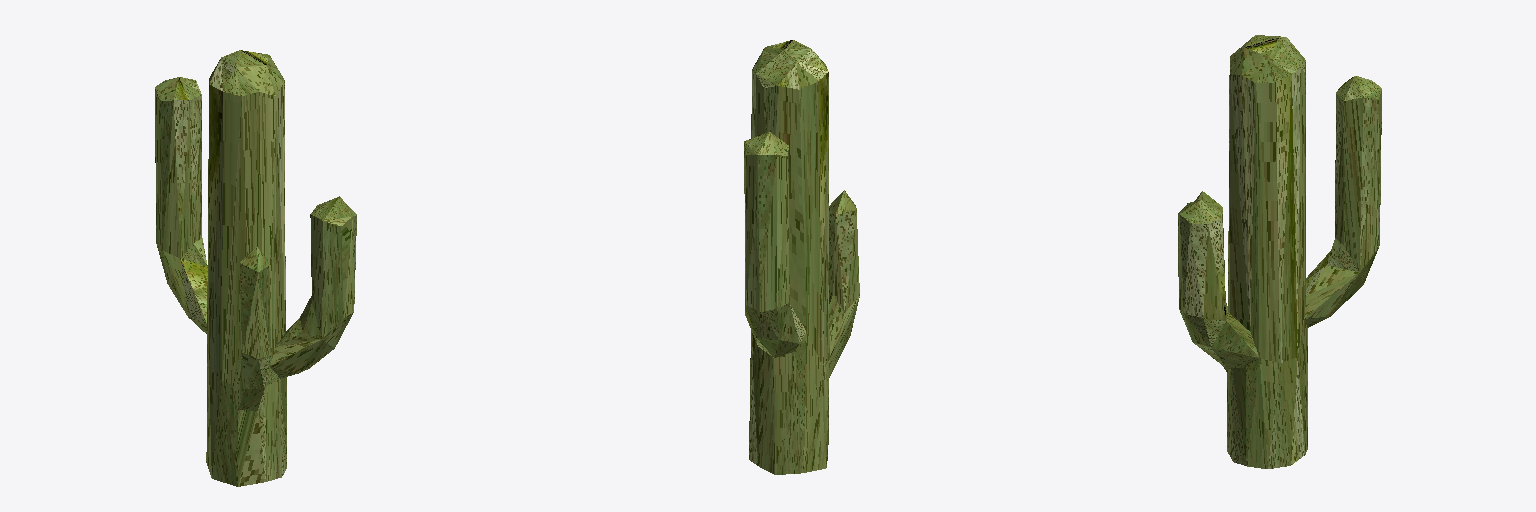
3 renders of one model, left to right at view 1: azimuth 30°, elevation 25°; view 2: azimuth 150°, elevation 25°; view 3: azimuth 270°, elevation 25°, orthographic.
Visible parts, largest first — view 1: ___; view 2: ___; view 3: ___.
Part boxes in pixels (x1,y1,x2,y2): ___: (155,50,356,486); ___: (744,40,859,474); ___: (1178,35,1381,468).
Bounding box in the file's own units: 3.87 × 13.39 × 5.89.
Materials: 1 (1 with a texture image).